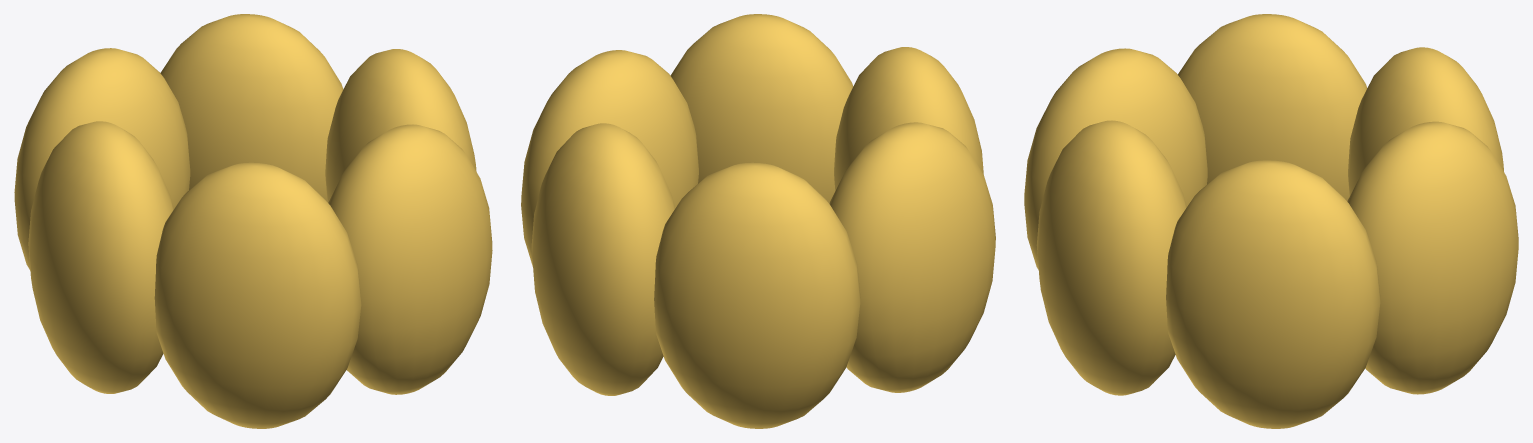
File: crop_6_stage_0.fbx
3 views of the same model, side by side, from view 1: azimuth 30°, elevation 25°; view 2: azimuth 150°, elevation 25°; view 3: azimuth 270°, elevation 25° (orthographic).
Parts seen in each view (by area): view 1: crop_6_stage_0; view 2: crop_6_stage_0; view 3: crop_6_stage_0.
Part boxes in pixels (x1,y1,x2,y2): crop_6_stage_0: [14, 14, 492, 428]; crop_6_stage_0: [521, 14, 995, 428]; crop_6_stage_0: [1024, 14, 1518, 428].
Bounding box in the file's own units: 0.06 × 0.035 × 0.06.
1 material, 1 textured.
